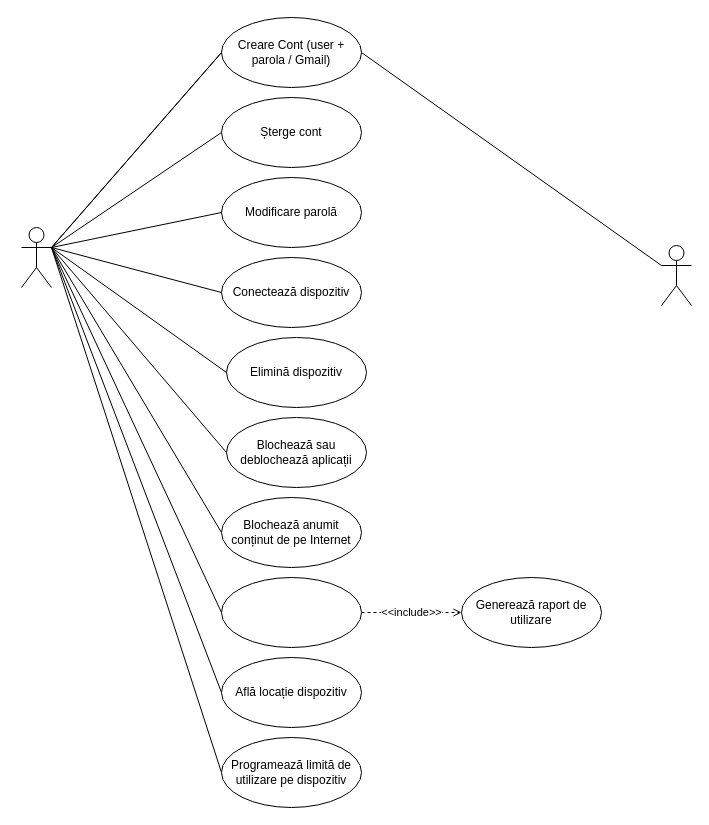
The diagram is 709 pixels wide and 825 high, and some of its shapes have lost their labels. Each missing label, with the box of its shape:
Copil: (660, 244, 692, 306)
Monitorizează utilizarea dispozitivului copilului: (220, 576, 362, 648)
Părinte: (20, 226, 52, 288)
